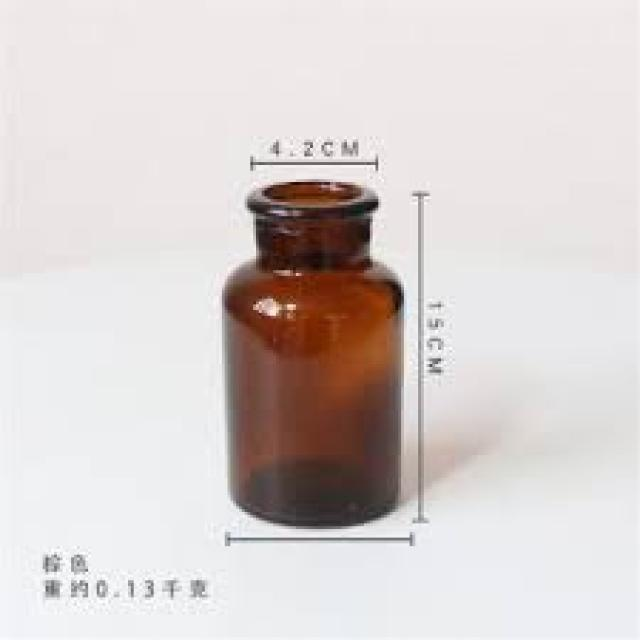Glass: (218, 174, 408, 527)
